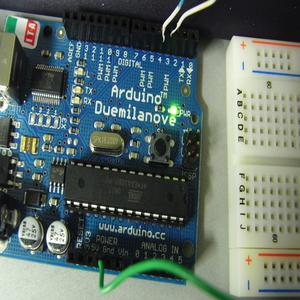duino: (0, 17, 207, 279)
